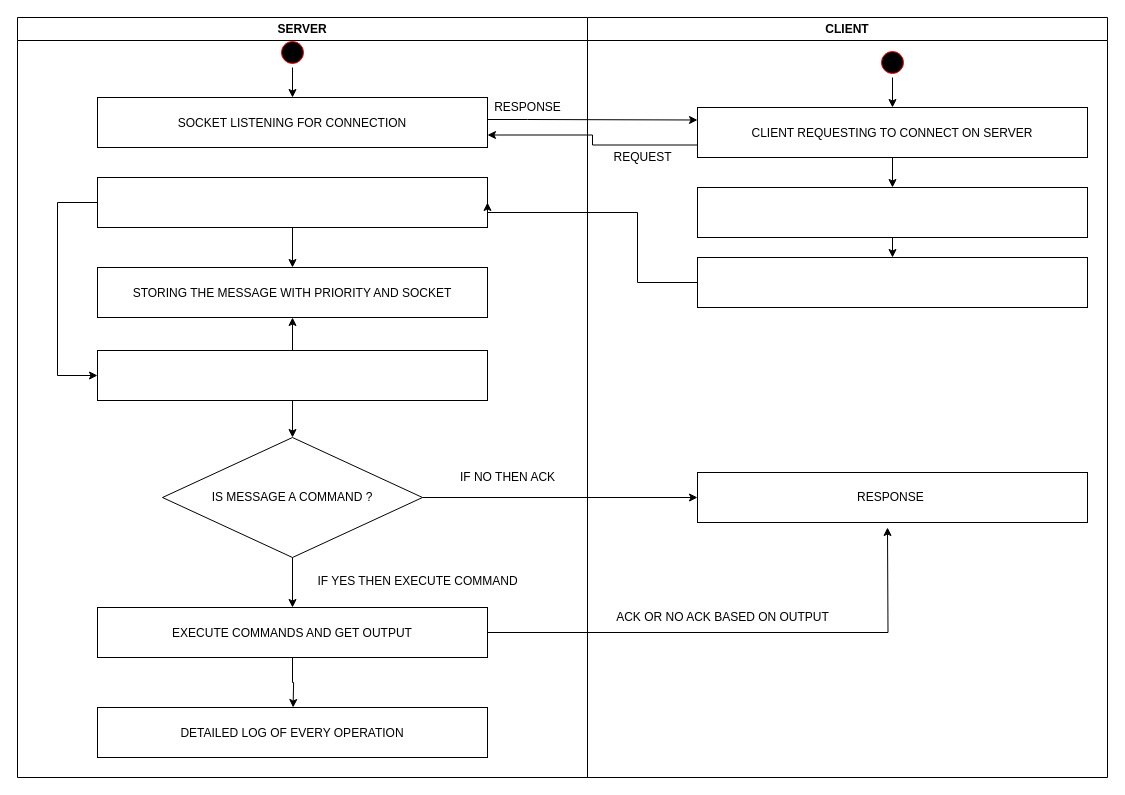
The diagram is 1125 pixels wide and 795 high, and some of its shapes have lost their labels. The centre of each missing label's shape, as x and y in pixels:
"ENCRYPTION USING RSA AND SENDING TO SERVER" belongs at (892,282).
"PRIORITY QUEUE FOR STORING INCOMING MESSAGES" belongs at (292,202).
"RESPONSE THREAD TO WATCH PRIORITY QUEUE" belongs at (292,375).
"SELECT MESSAGE FROM MESSAGES" belongs at (892,212).
